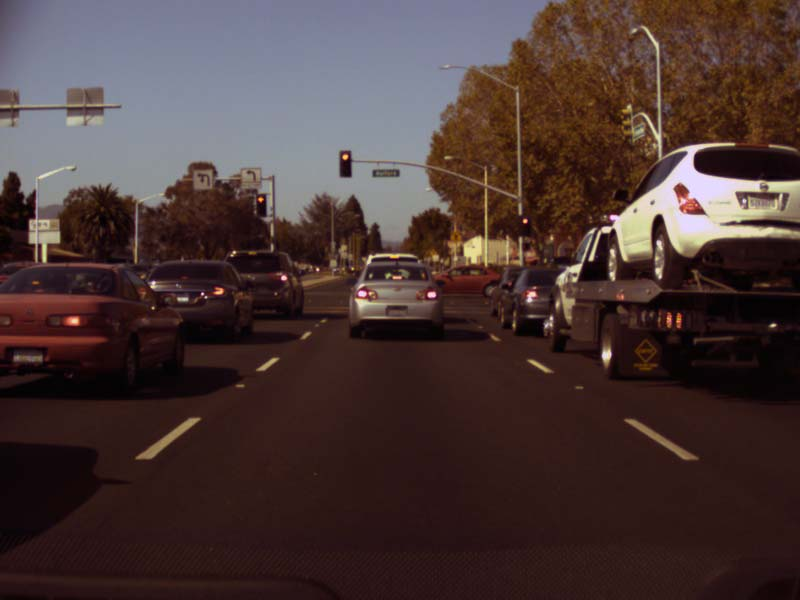Red: (339, 149, 352, 178), (254, 193, 267, 216)
Yellow: (518, 215, 531, 235)
